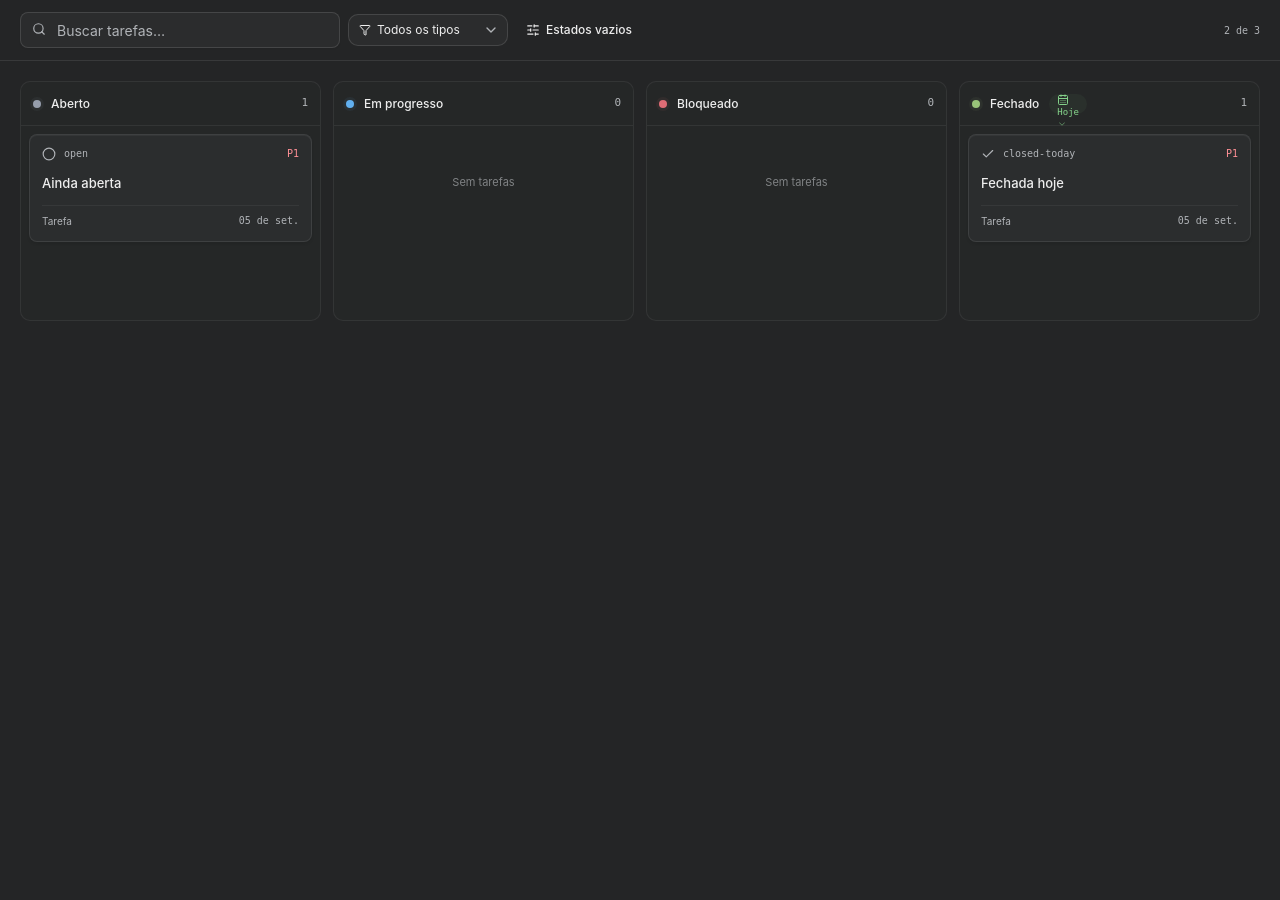
Scenario: Project Dashboard › filters only the closed lane by completion date and defaults to today
expect the element named "Fechado: 1" is shown: met, box [959,81,1260,321]
expect the button with aria-label "Tarefa: Fechada hoje" is shown: met, box [968,134,1251,242]
Click the button with aria-label "Filtrar tarefas fechadas: Hoje" at [1068, 104], box [1049,94,1087,114]
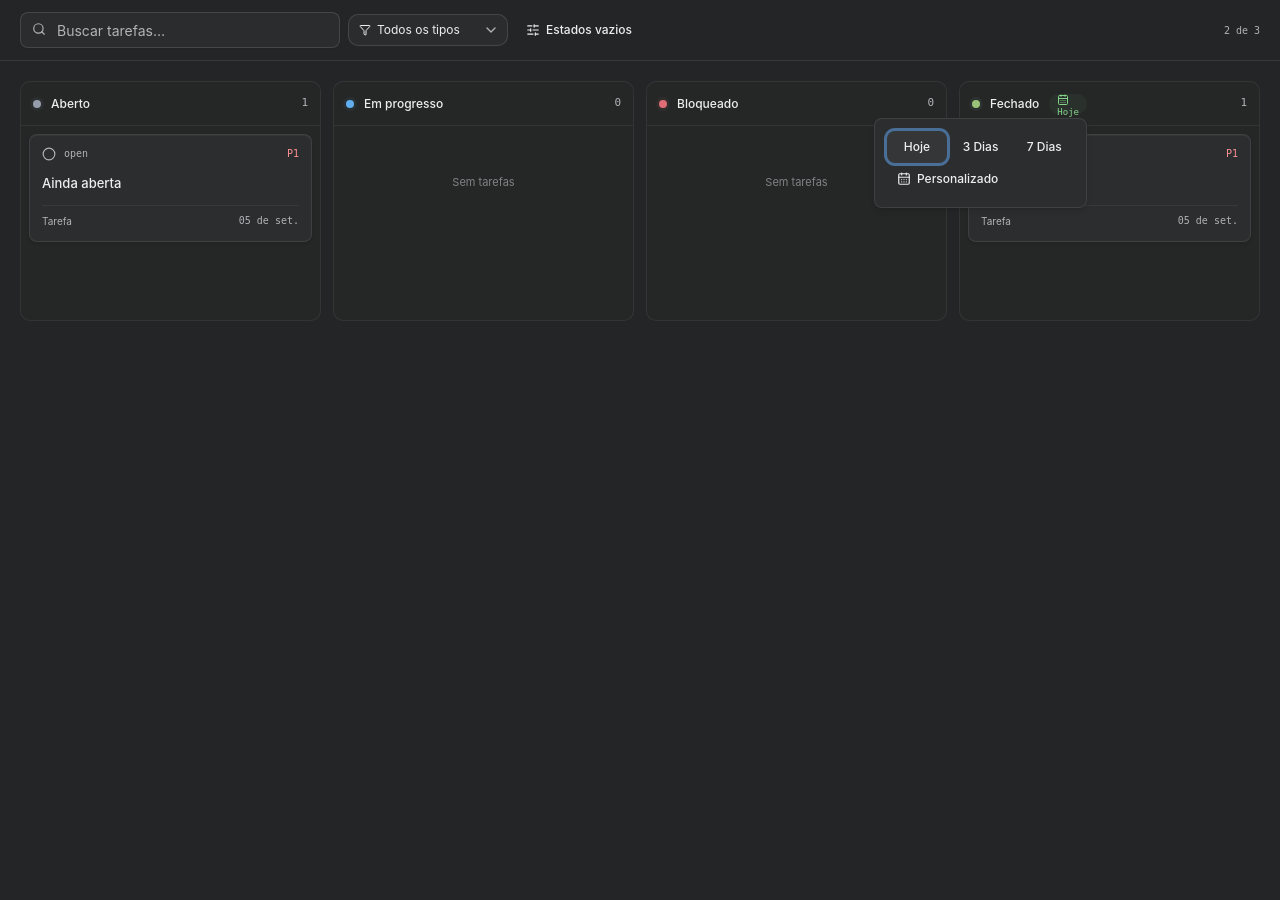
Click the button "7 Dias" at [1044, 147], box [1014,131,1074,163]
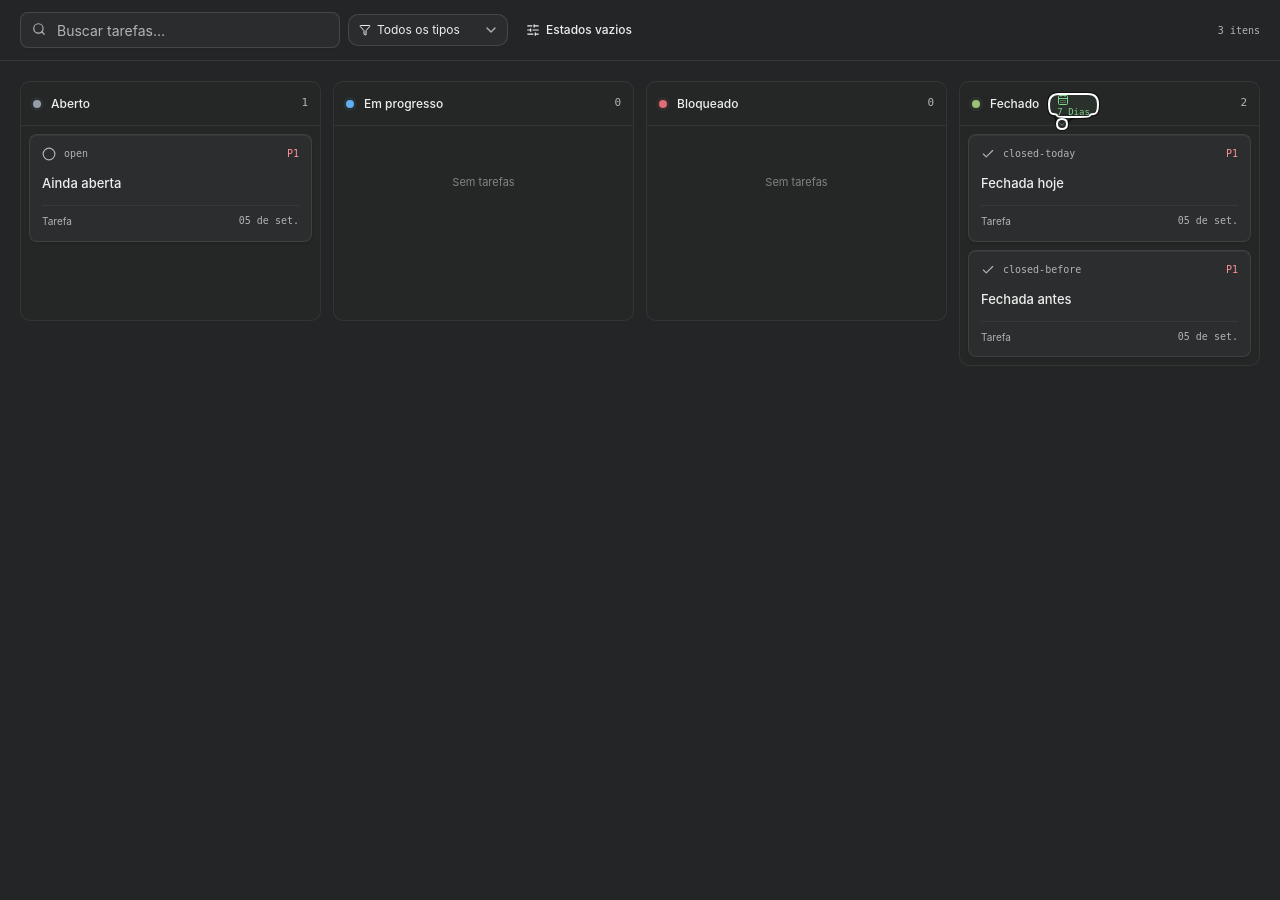
expect the element named "Fechado: 2" is shown: met, box [959,81,1260,366]
expect the button with aria-label "Tarefa: Fechada antes" is shown: met, box [968,250,1251,357]
expect the button with aria-label "Filtrar tarefas fechadas: 7 Dias" is shown: met
Click the button with aria-label "Filtrar tarefas fechadas: 7 Dias" at [1074, 104], box [1049,94,1098,114]
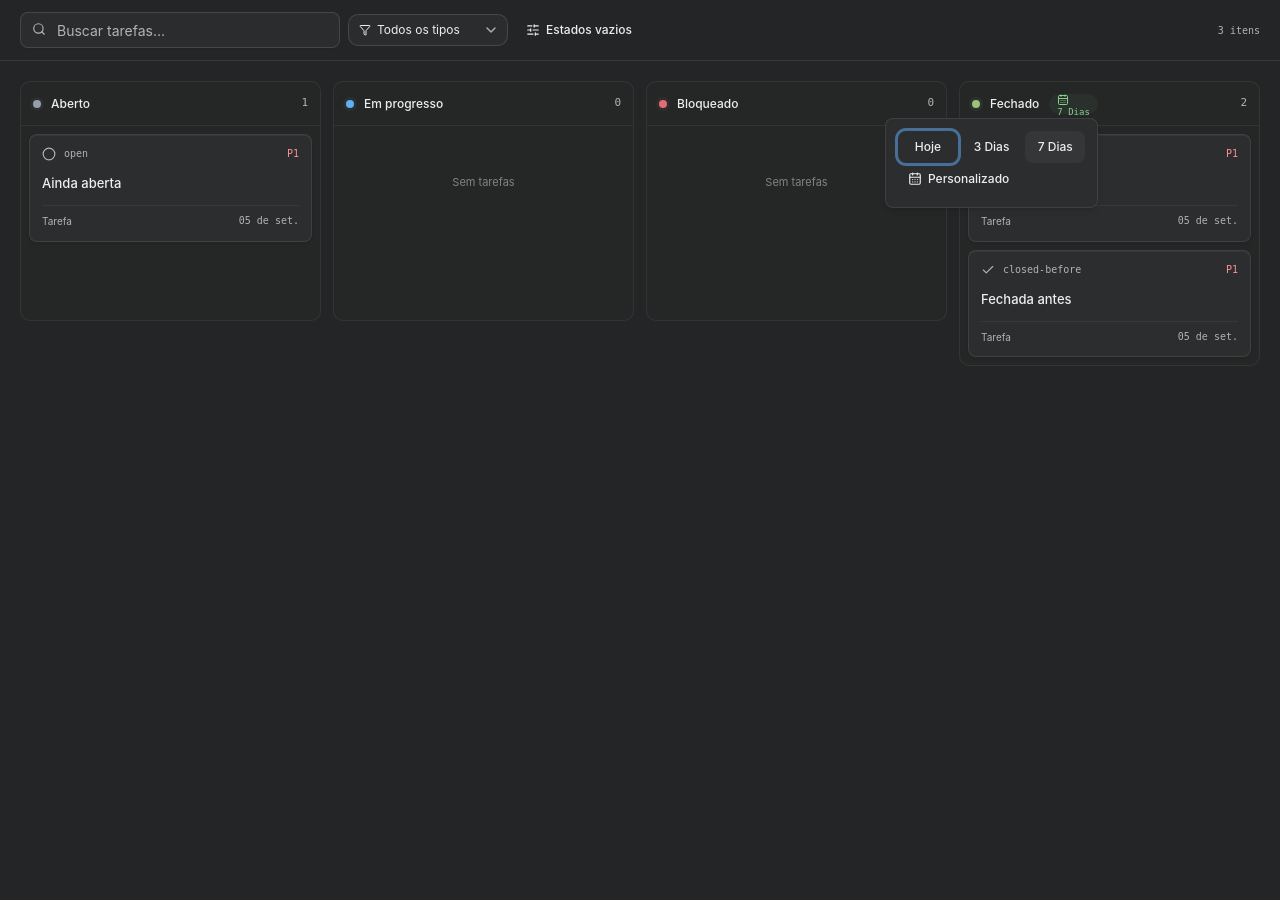
Click the button "Personalizado" at [992, 179], box [898,163,1085,195]
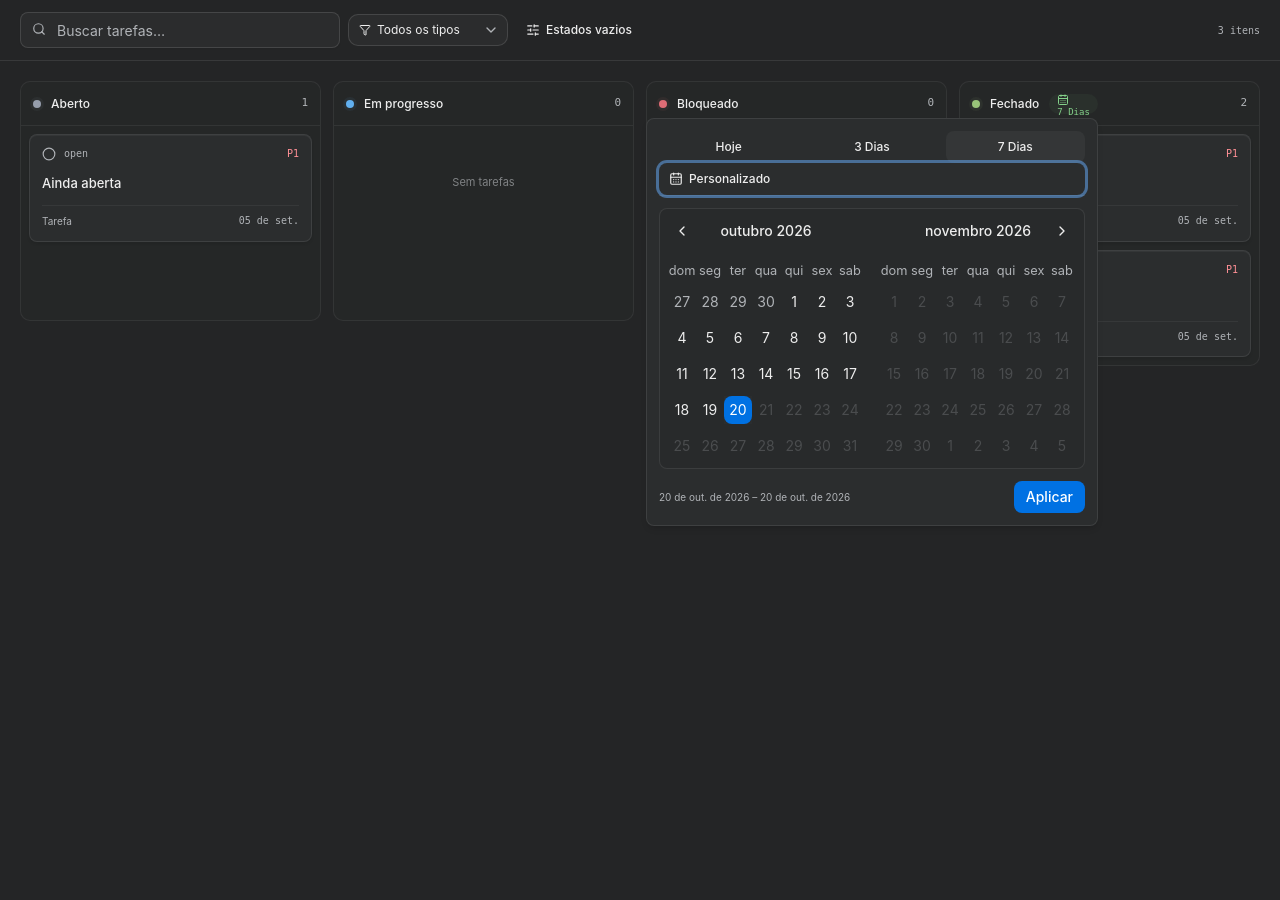
Click the button "Aplicar" at [1049, 497], box [1014,481,1085,513]
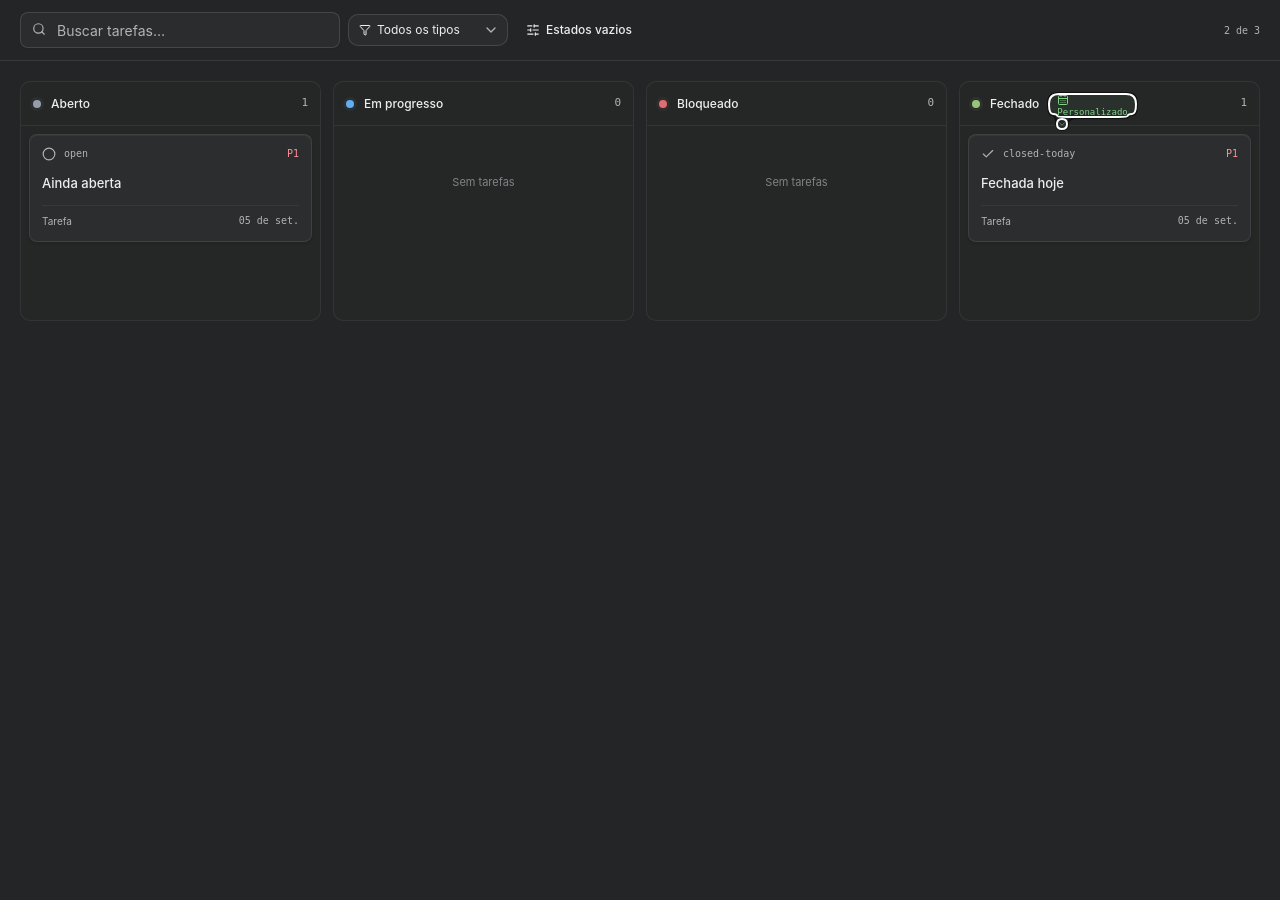
expect the button with aria-label "Filtrar tarefas fechadas: Personalizado" is shown: met, box [1049,94,1136,114]
expect the element named "Fechado: 1" is shown: met, box [959,81,1260,321]
